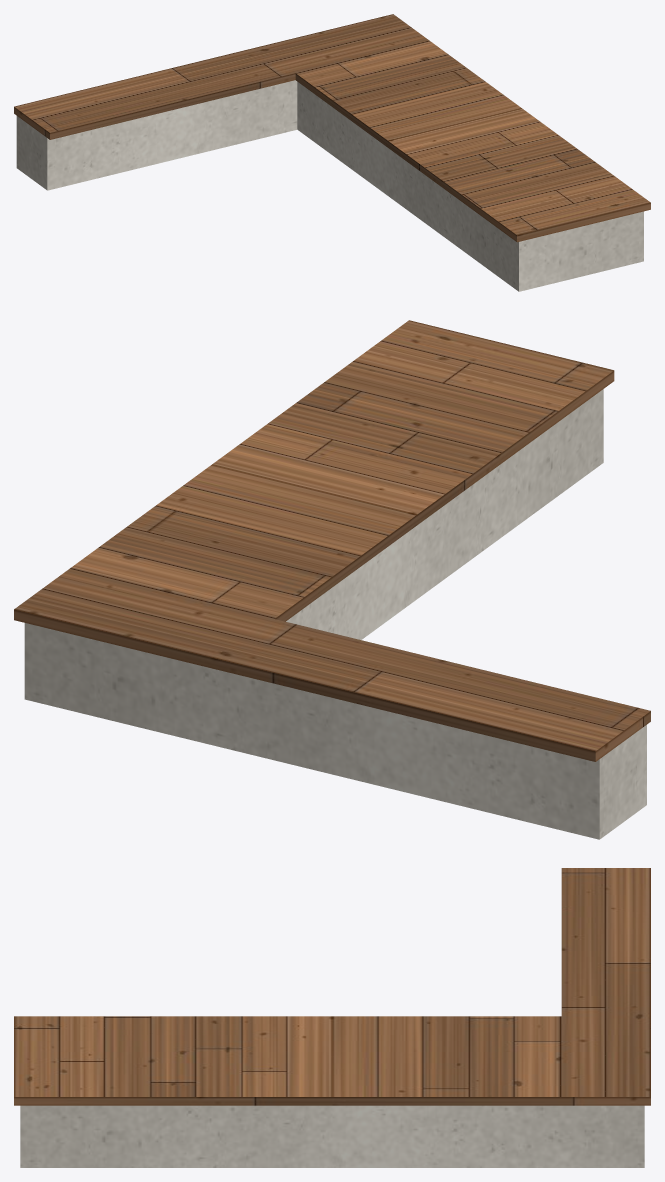
File: floor_floor_u_e1000.glb
3 renders of one model, top to bottom at view 1: azimuth 30°, elevation 25°; view 2: azimuth 150°, elevation 25°; view 3: azimuth 270°, elevation 25°, orthographic. The views are drawn at different scales.
Visible parts, largest first — view 1: floor_floor_u_e1000_floor, floor_floor_u_e1000_plaster; view 2: floor_floor_u_e1000_floor, floor_floor_u_e1000_plaster; view 3: floor_floor_u_e1000_floor, floor_floor_u_e1000_plaster.
Part boxes in pixels (x1=…): floor_floor_u_e1000_floor: x1=14, y1=14, x2=650, y2=242; floor_floor_u_e1000_plaster: x1=16, y1=80, x2=643, y2=291; floor_floor_u_e1000_floor: x1=14, y1=320, x2=650, y2=761; floor_floor_u_e1000_plaster: x1=24, y1=389, x2=646, y2=839; floor_floor_u_e1000_floor: x1=14, y1=868, x2=650, y2=1105; floor_floor_u_e1000_plaster: x1=20, y1=1105, x2=644, y2=1167.
Size of the model in its own units: 1.7 by 0.255 by 2.
Materials: 2 (2 with a texture image).
